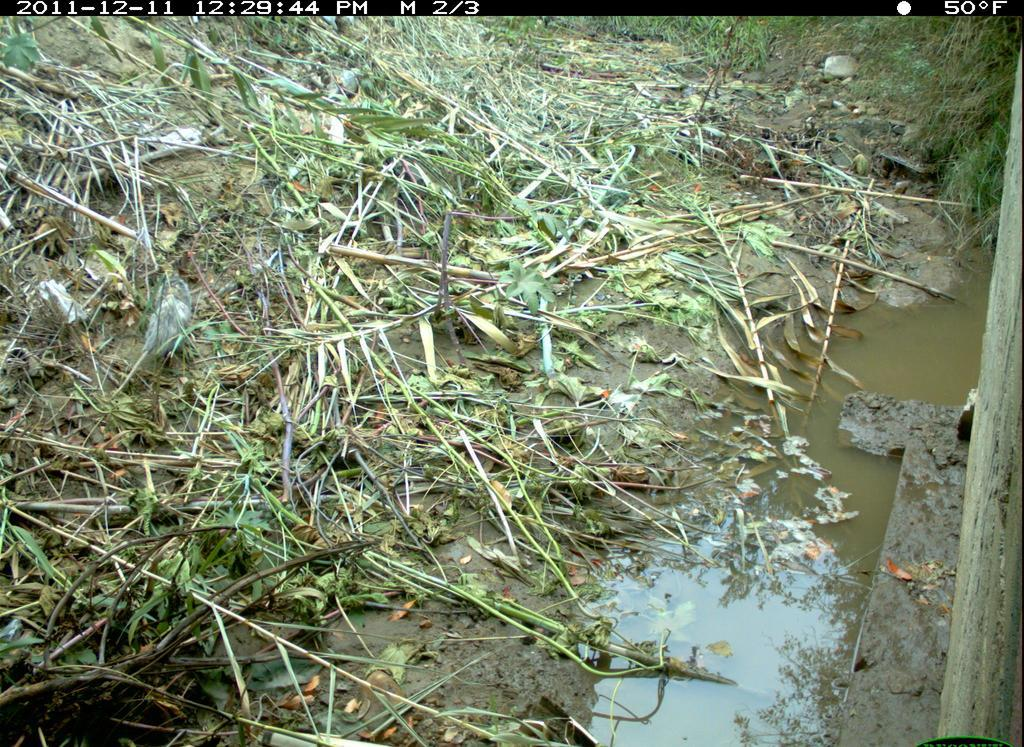opossum: (99, 258, 207, 413)
